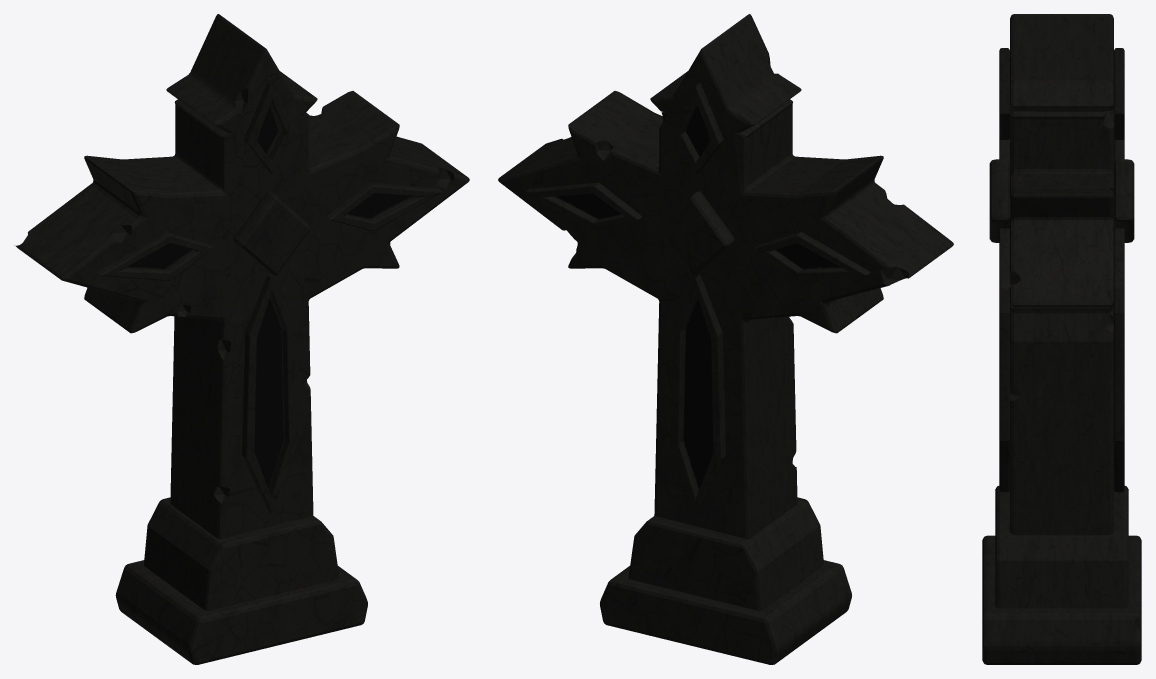
The model's file is grave_burst_stone_cross.glb.
3 views of the same model, side by side, from view 1: azimuth 30°, elevation 25°; view 2: azimuth 150°, elevation 25°; view 3: azimuth 270°, elevation 25° (orthographic). The views are drawn at different scales.
Parts seen in each view (by area): view 1: grave_burst_stone_cross; view 2: grave_burst_stone_cross; view 3: grave_burst_stone_cross.
Boxes of the visible parts, box(x1,y1,x2,y2) form: grave_burst_stone_cross: box(14, 14, 469, 664); grave_burst_stone_cross: box(498, 14, 953, 664); grave_burst_stone_cross: box(982, 14, 1141, 664).
Bounding box in the file's own units: 1.09 × 1.5 × 0.354.
Materials: 1 (1 with a texture image).
